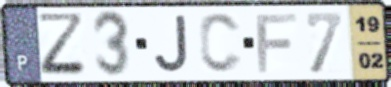3: (91, 7, 133, 81)
7: (304, 10, 346, 75)
C: (197, 11, 245, 76)
F: (254, 11, 300, 75)
J: (152, 13, 191, 74)
Z: (35, 11, 90, 78)
